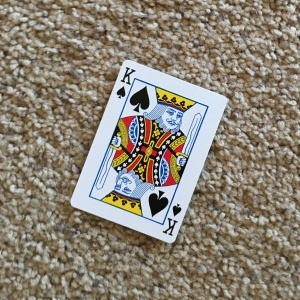card: (69, 57, 228, 243)
